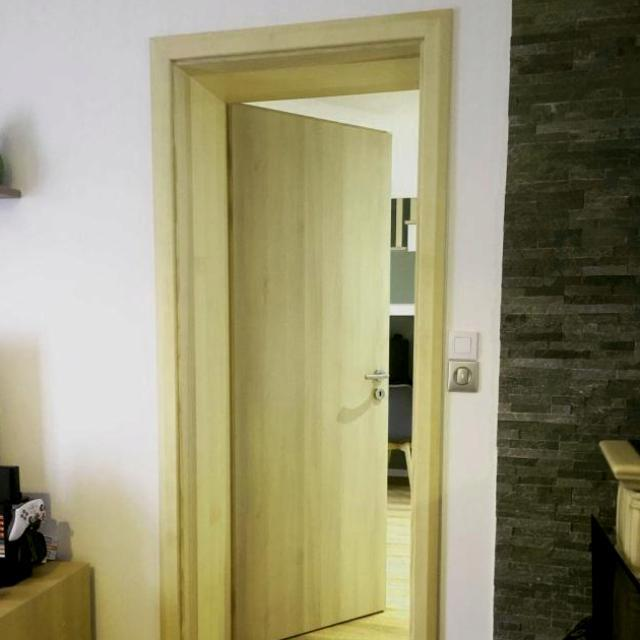door: (226, 101, 391, 638)
